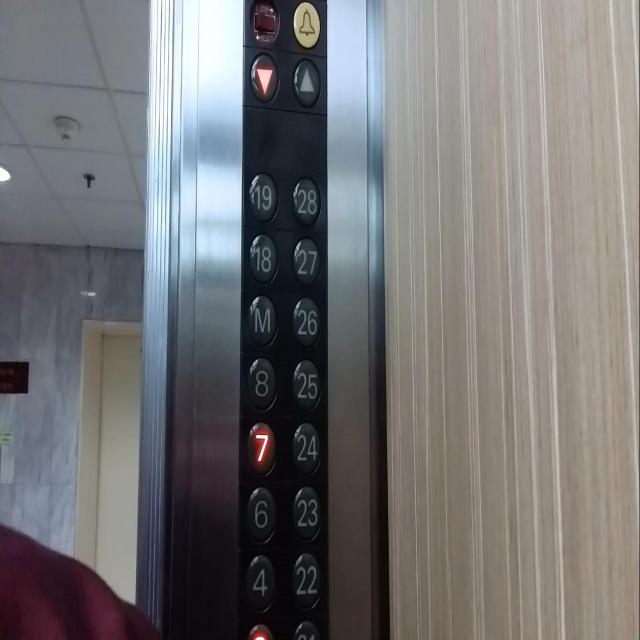18: (248, 231, 279, 285)
19: (246, 172, 278, 224)
22: (290, 551, 320, 610)
23: (292, 484, 322, 543)
24: (291, 420, 320, 473)
25: (291, 358, 321, 411)
26: (292, 295, 320, 346)
27: (291, 236, 321, 286)
28: (290, 174, 322, 228)
4: (246, 552, 274, 614)
6: (246, 486, 276, 542)
7: (245, 420, 277, 476)
8: (247, 356, 277, 412)
M: (247, 292, 277, 348)
alarm: (292, 0, 322, 48)
down: (248, 52, 280, 105)
switch: (252, 10, 276, 36)
up: (292, 57, 322, 111)
